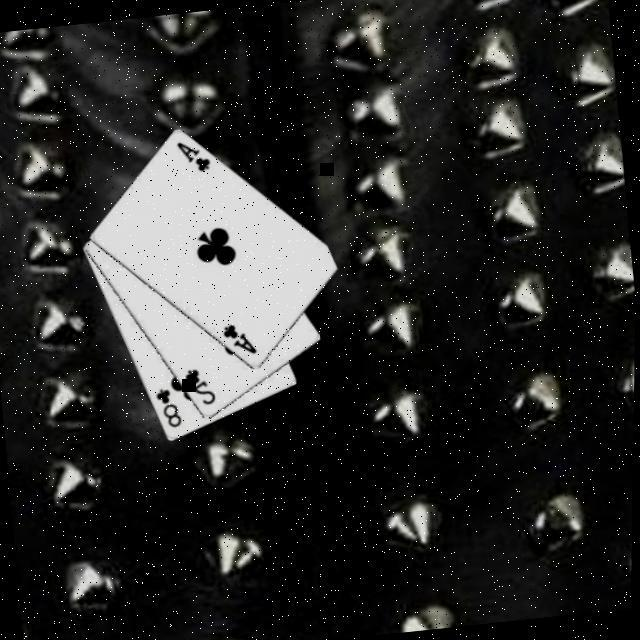2C: (183, 362, 222, 408)
8C: (153, 382, 189, 431)
AC: (221, 317, 263, 359), (174, 135, 216, 177)
